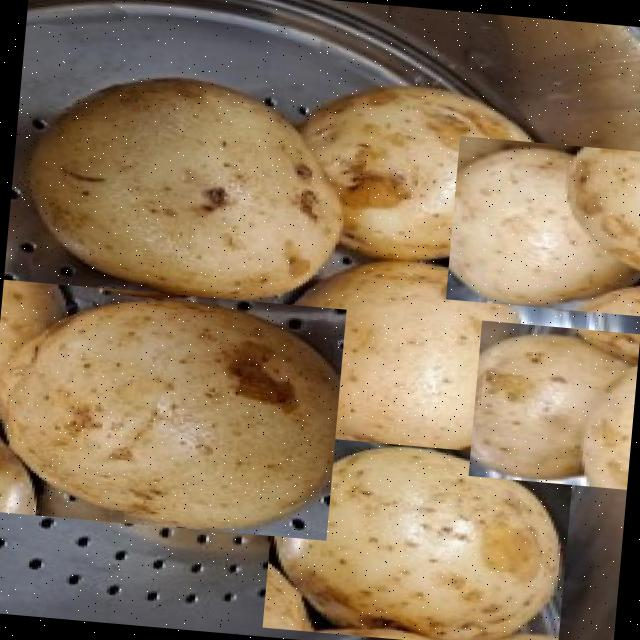Potato: (0, 279, 345, 540), (18, 64, 368, 305), (261, 434, 573, 640), (262, 248, 536, 464), (288, 76, 554, 272), (444, 135, 640, 316), (467, 320, 640, 489)
